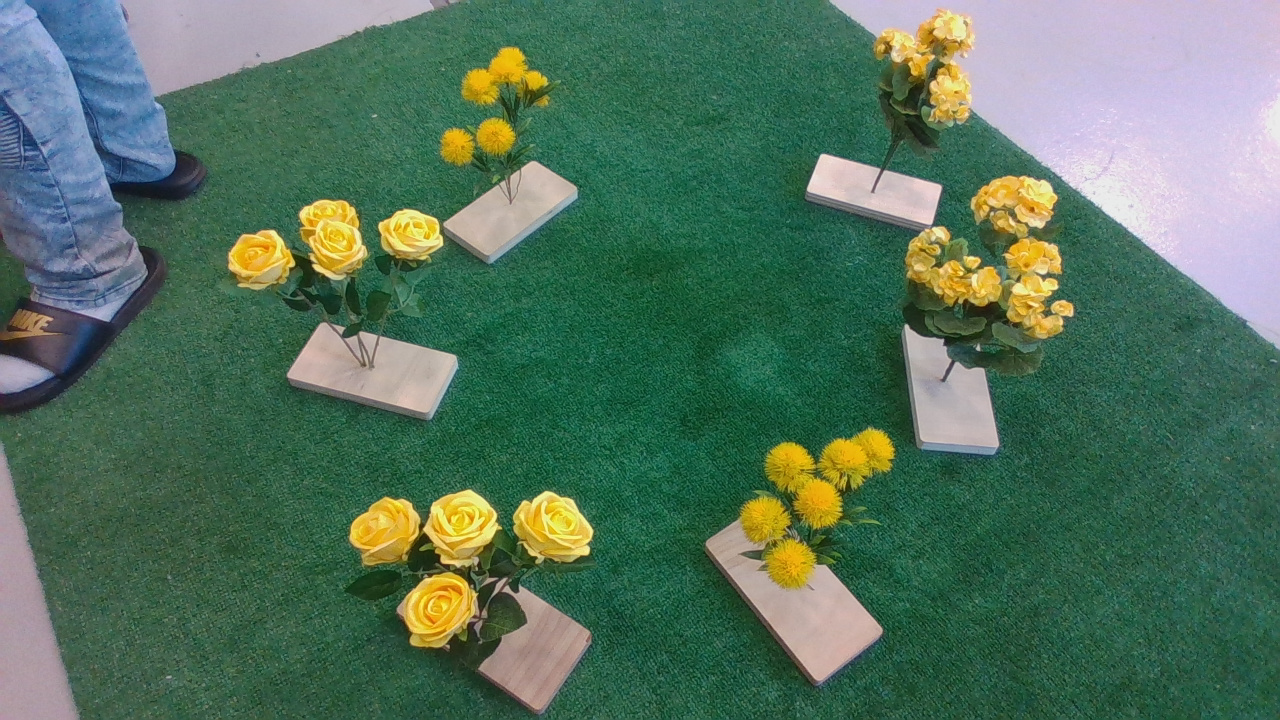dandelion: (735, 423, 915, 601), (435, 43, 572, 189)
geranium: (903, 176, 1086, 393), (873, 9, 990, 164)
rose: (339, 483, 628, 685), (225, 202, 464, 339)
